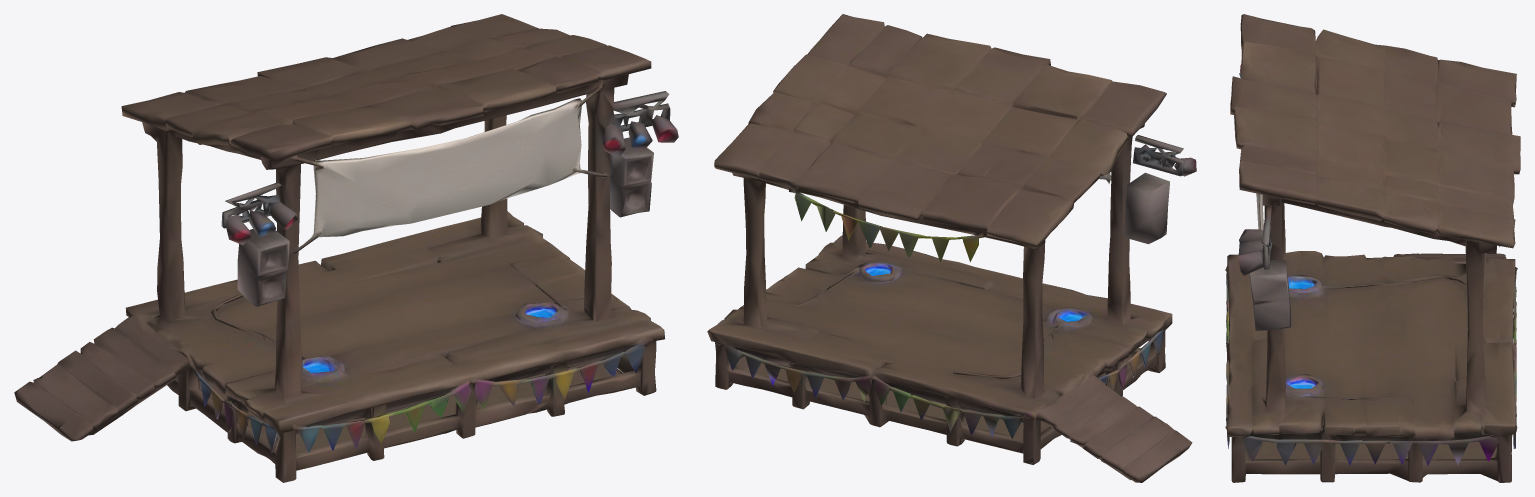
File: festival_ground_main.glb
3 renders of one model, left to right at view 1: azimuth 30°, elevation 25°; view 2: azimuth 150°, elevation 25°; view 3: azimuth 270°, elevation 25°, orthographic. The views are drawn at different scales.
Visible parts, largest first — view 1: tripo_node_40aaa7e4-cf62-485f-a4b7-768026ee51b4; view 2: tripo_node_40aaa7e4-cf62-485f-a4b7-768026ee51b4; view 3: tripo_node_40aaa7e4-cf62-485f-a4b7-768026ee51b4.
Part boxes in pixels (left/top/right/bottom): tripo_node_40aaa7e4-cf62-485f-a4b7-768026ee51b4: left=14, top=14, right=678, bottom=482; tripo_node_40aaa7e4-cf62-485f-a4b7-768026ee51b4: left=707, top=14, right=1196, bottom=482; tripo_node_40aaa7e4-cf62-485f-a4b7-768026ee51b4: left=1225, top=14, right=1520, bottom=482.
Size of the model in its own units: 1 by 0.6035 by 0.5338.
Materials: 1 (1 with a texture image).
